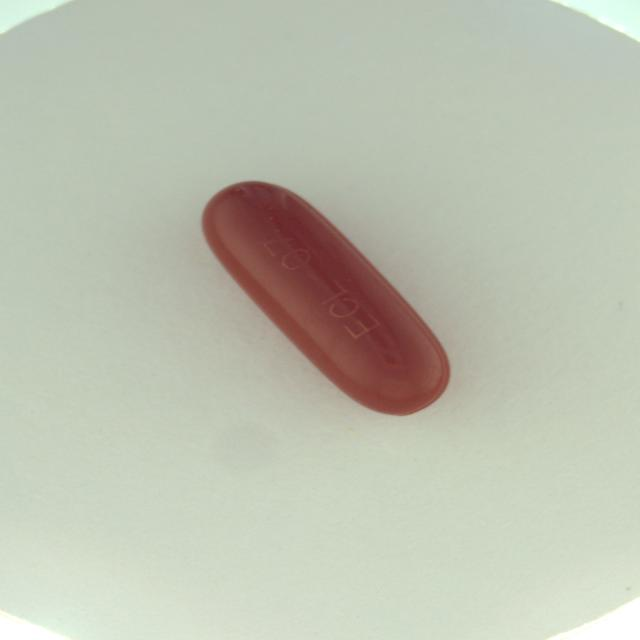Oval: (197, 177, 456, 423)
